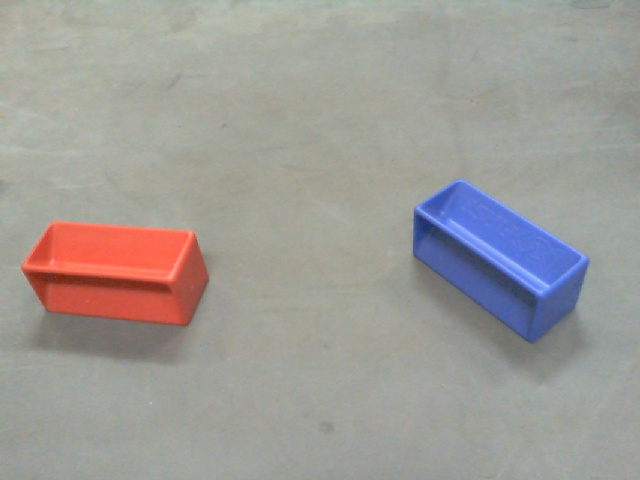BlueSample: (413, 180, 590, 346)
RedSample: (18, 218, 212, 329)
